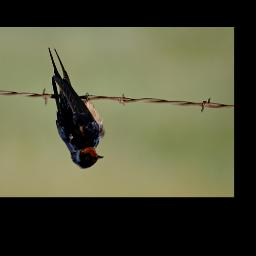Swallow: (45, 46, 105, 171)
